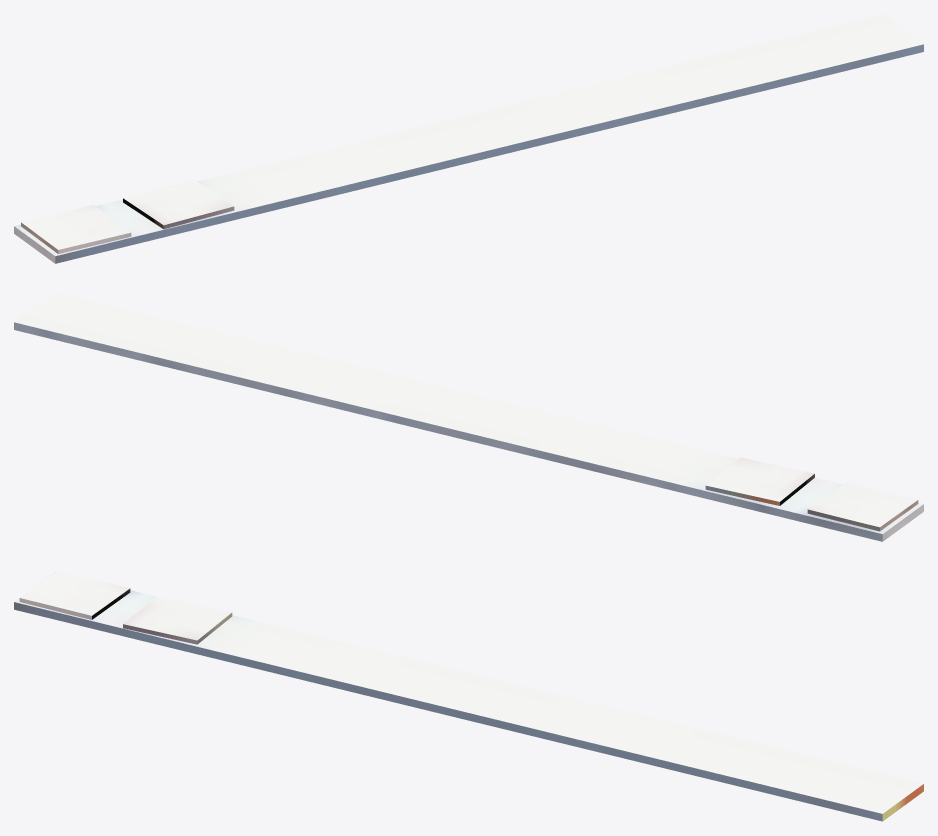
The model's file is strip_nitrat.glb.
3 renders of one model, top to bottom at view 1: azimuth 30°, elevation 25°; view 2: azimuth 150°, elevation 25°; view 3: azimuth 330°, elevation 25°, orthographic.
Parts seen in each view (by area): view 1: nitrat_strips; view 2: nitrat_strips; view 3: nitrat_strips.
Boxes of the visible parts, <box> form: nitrat_strips: <box>14,14,923,263</box>; nitrat_strips: <box>14,292,923,541</box>; nitrat_strips: <box>14,570,923,821</box>.
Bounding box in the file's own units: 0.0241 × 0.000312 × 0.00198.
Materials: 1 (1 with a texture image).
